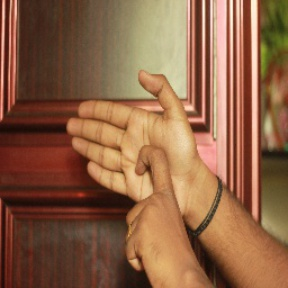R: (65, 64, 199, 271)
